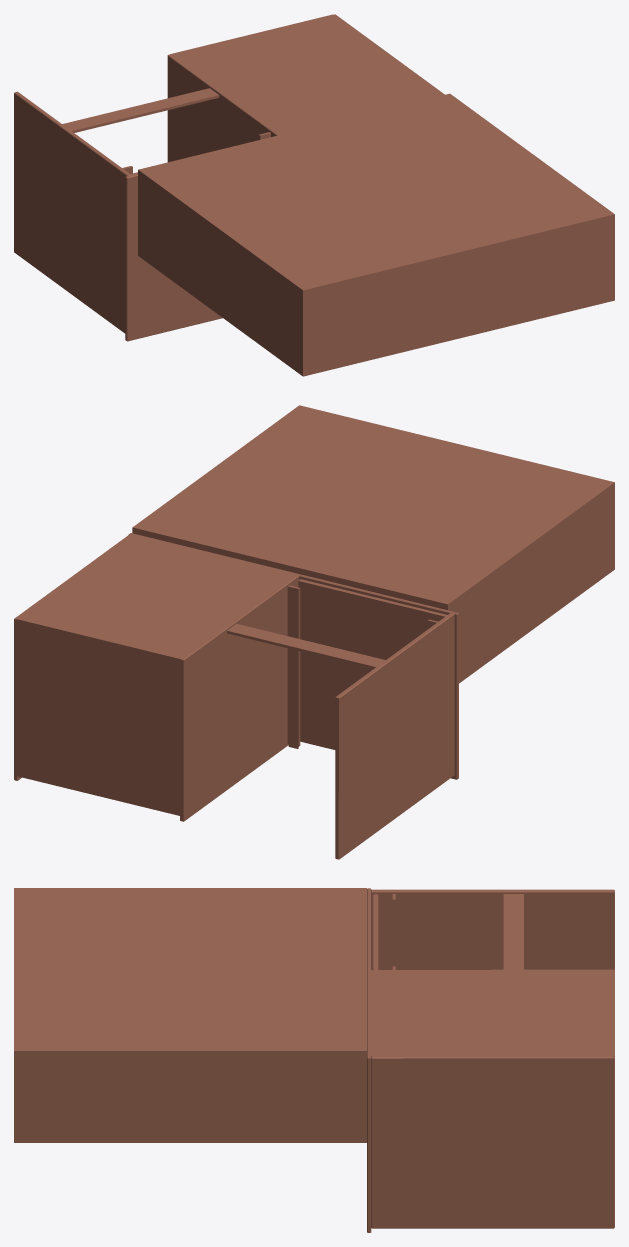
File: DeskmeshDesk_308_1_0.obj
3 renders of one model, top to bottom at view 1: azimuth 30°, elevation 25°; view 2: azimuth 150°, elevation 25°; view 3: azimuth 270°, elevation 25°, orthographic. The views are drawn at different scales.
Parts seen in each view (by area): view 1: Desk_308_1; view 2: Desk_308_1; view 3: Desk_308_1.
Boxes of the visible parts, <box> form: Desk_308_1: <box>14,14,614,376</box>; Desk_308_1: <box>14,405,614,859</box>; Desk_308_1: <box>14,888,614,1232</box>.
Size of the model in its own units: 1.39 by 0.6914 by 2.08.
